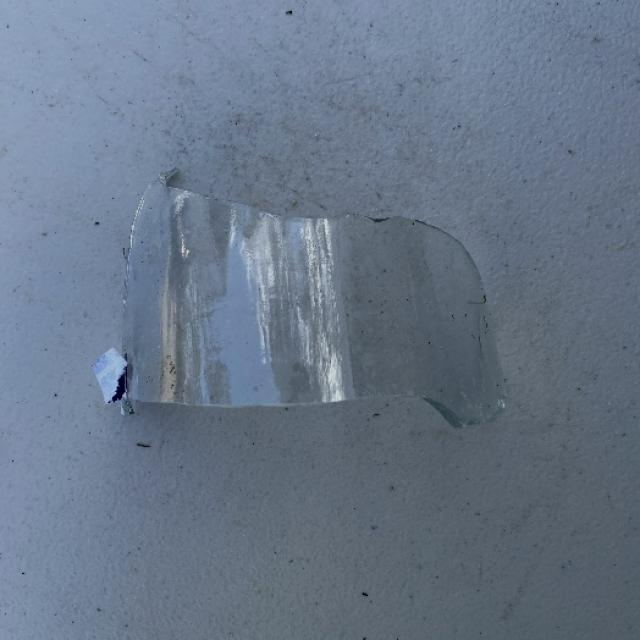kaca: (117, 175, 537, 453)
